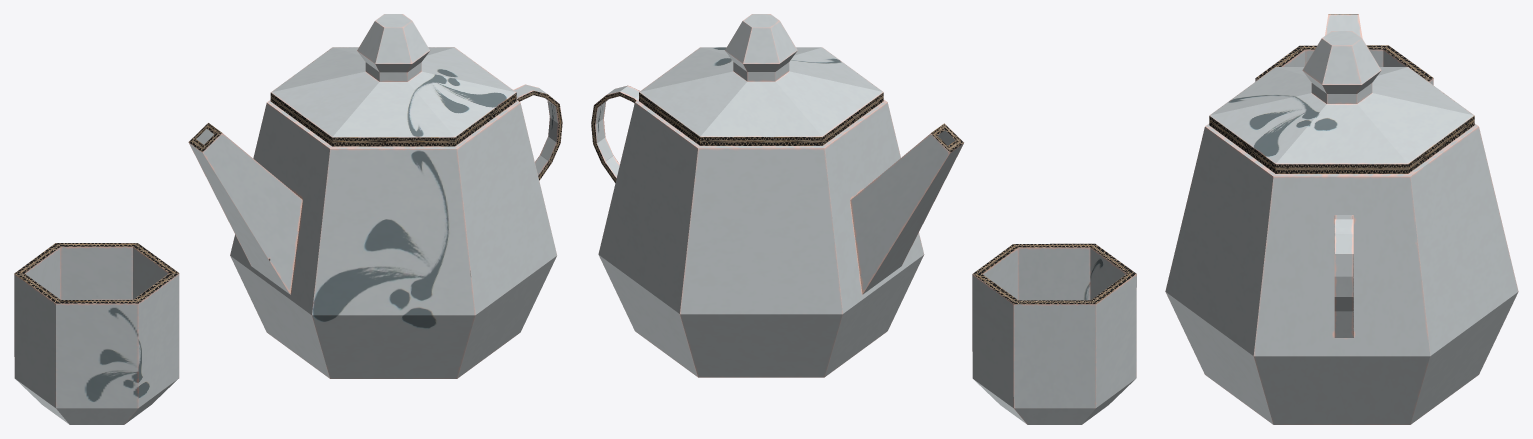
The model's file is prop-teapot2.glb.
The picture shows the model from 3 angles, left to right: view 1: azimuth 30°, elevation 25°; view 2: azimuth 150°, elevation 25°; view 3: azimuth 270°, elevation 25°; orthographic projection. The views are drawn at different scales.
Visible parts, largest first — view 1: bake.016, bake.017; view 2: bake.016, bake.017; view 3: bake.016, bake.017.
Part boxes in pixels (x1,y1,x2,y2): bake.016: (188,14,562,378); bake.017: (14,243,179,424); bake.016: (591,14,963,377); bake.017: (972,243,1136,424); bake.016: (1165,14,1518,424); bake.017: (1255,45,1433,84).
Bounding box in the file's own units: 0.6804 × 0.3887 × 0.3685.
1 material, 1 textured.
